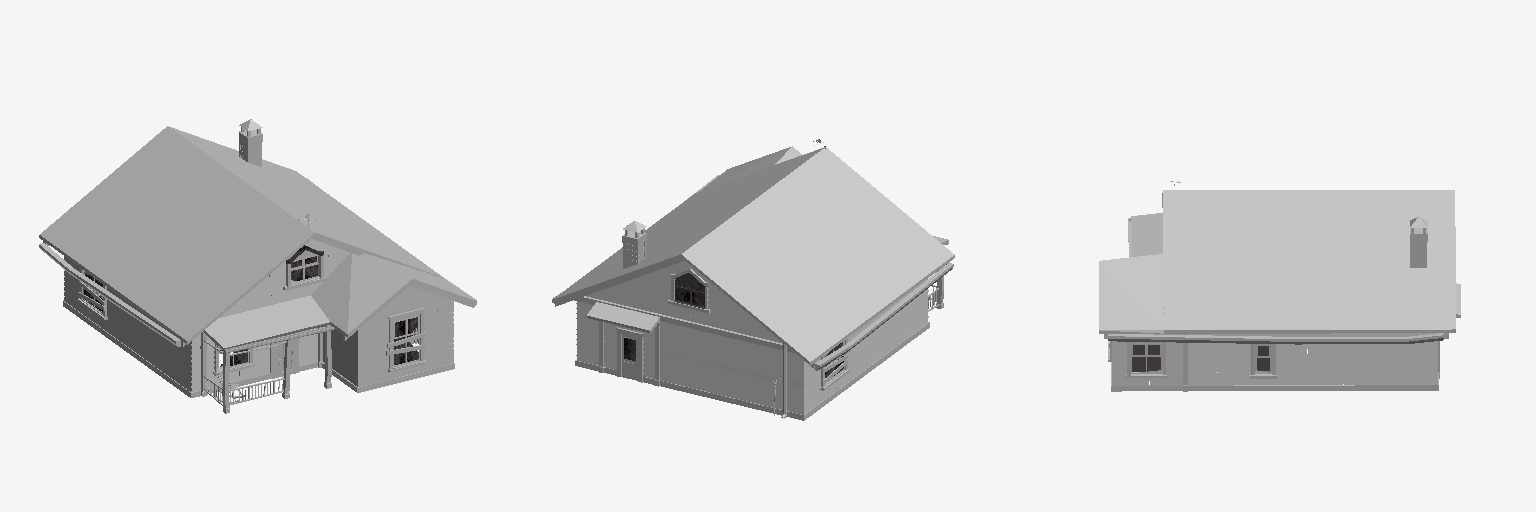
The picture shows the model from 3 angles: view 1: azimuth 30°, elevation 25°; view 2: azimuth 150°, elevation 25°; view 3: azimuth 270°, elevation 25°; orthographic projection.
Parts seen in each view (by area): view 1: Cube.247, tablones_casa.001, tablones_hab.001, Cube.248, Cube.232, Plane.027, interior_casa.003, interior_hab.002, Plane.029; view 2: Cube.247, tablones_casa.001, interior_casa.003, Plane.027, Cube.246, interior_casa.004, Cube.248, Window.013, Cube.251, Door.004; view 3: Cube.247, tablones_casa.001, Cube.248, Plane.028, tablones_hab.001, interior_casa.003, Cube.232, Window.011.
Part boxes in pixels (x1,y1,x2,y2): Cube.247: (39, 126, 443, 344); tablones_casa.001: (64, 239, 413, 392); tablones_hab.001: (323, 274, 453, 386); Cube.248: (311, 253, 476, 336); Cube.232: (203, 295, 329, 350); Plane.027: (39, 243, 180, 346); interior_casa.003: (63, 300, 413, 397); interior_hab.002: (322, 362, 454, 392); Plane.029: (394, 317, 418, 364); Cube.247: (552, 147, 954, 364); tablones_casa.001: (576, 261, 928, 414); interior_casa.003: (575, 322, 929, 420); Plane.027: (814, 263, 953, 370); Cube.246: (586, 302, 659, 332); interior_casa.004: (574, 296, 795, 353); Cube.248: (701, 146, 801, 190); Window.013: (674, 273, 704, 308); Cube.251: (555, 258, 815, 368); Door.004: (622, 335, 637, 374); Cube.247: (1162, 190, 1455, 333); tablones_casa.001: (1188, 333, 1437, 385); Cube.248: (1099, 254, 1163, 333); Plane.028: (1108, 333, 1443, 344); tablones_hab.001: (1112, 312, 1182, 385); interior_casa.003: (1188, 374, 1438, 390); Cube.232: (1131, 213, 1162, 256); Window.011: (1131, 344, 1162, 374).
Bounding box in the file's own units: 13.14 × 7.41 × 15.28.
Materials: 9 (3 with a texture image).